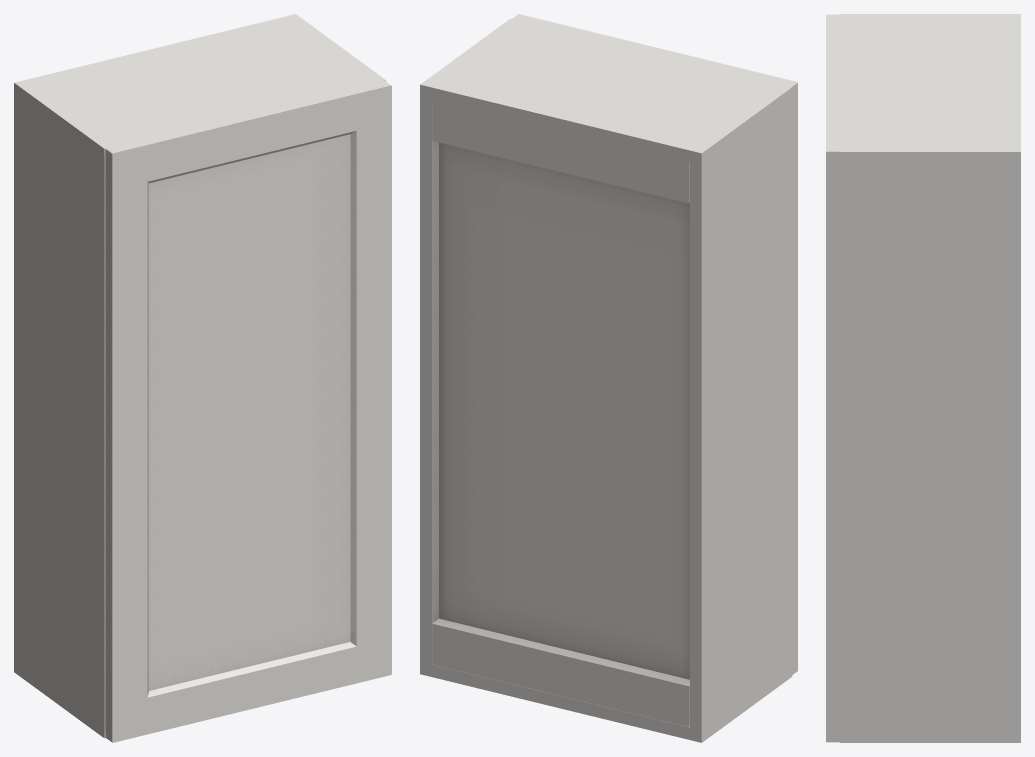
File: vanity-wall-1-door-doors-on.glb
The picture shows the model from 3 angles, left to right: view 1: azimuth 30°, elevation 25°; view 2: azimuth 150°, elevation 25°; view 3: azimuth 270°, elevation 25°; orthographic projection.
Visible parts, largest first — view 1: part_13, part_0; view 2: part_0, part_13; view 3: part_0, part_13.
Part boxes in pixels (x1=…): part_13: x1=105, y1=80, x2=391, y2=742; part_0: x1=14, y1=14, x2=385, y2=738; part_0: x1=420, y1=18, x2=792, y2=742; part_13: x1=512, y1=14, x2=797, y2=674; part_0: x1=839, y1=14, x2=1020, y2=742; part_13: x1=826, y1=14, x2=839, y2=742.
Size of the model in its own units: 0.4572 by 0.9144 by 0.273.
2 materials, 2 textured.
